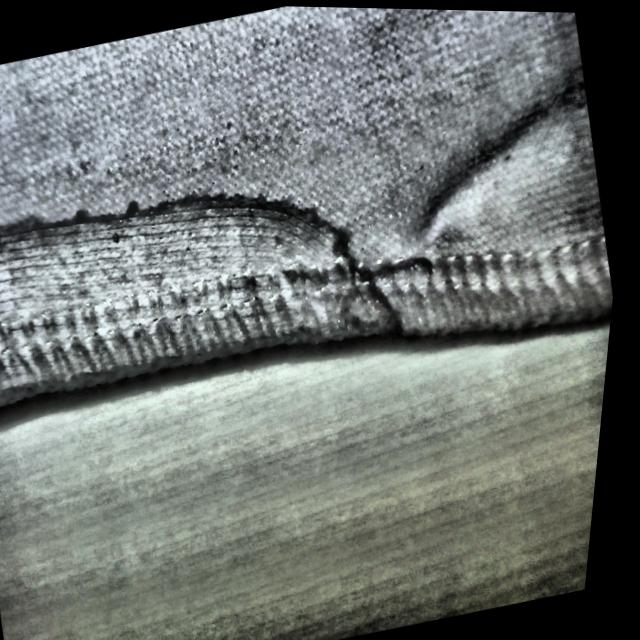seam: (0, 91, 383, 419)
